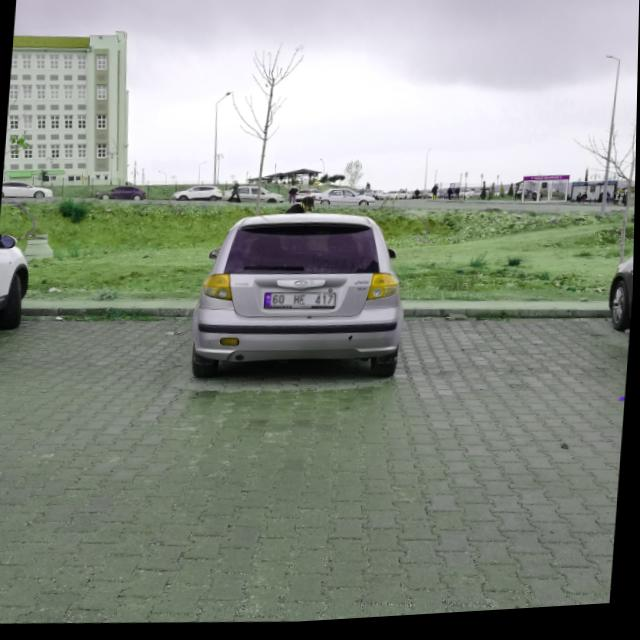license_plate: (265, 294, 337, 314)
